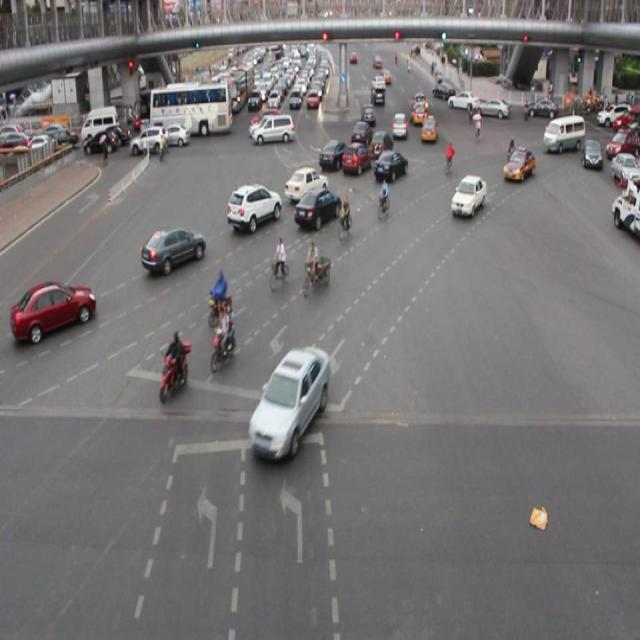car: (250, 348, 328, 452), (12, 278, 95, 342), (139, 224, 204, 274), (226, 182, 282, 230), (292, 185, 340, 230), (285, 164, 327, 205), (450, 174, 486, 218), (502, 146, 534, 182), (373, 147, 406, 180), (340, 143, 371, 175), (319, 138, 349, 170), (368, 128, 393, 160), (350, 120, 370, 146), (419, 116, 438, 140)
truck: (542, 114, 584, 155)
